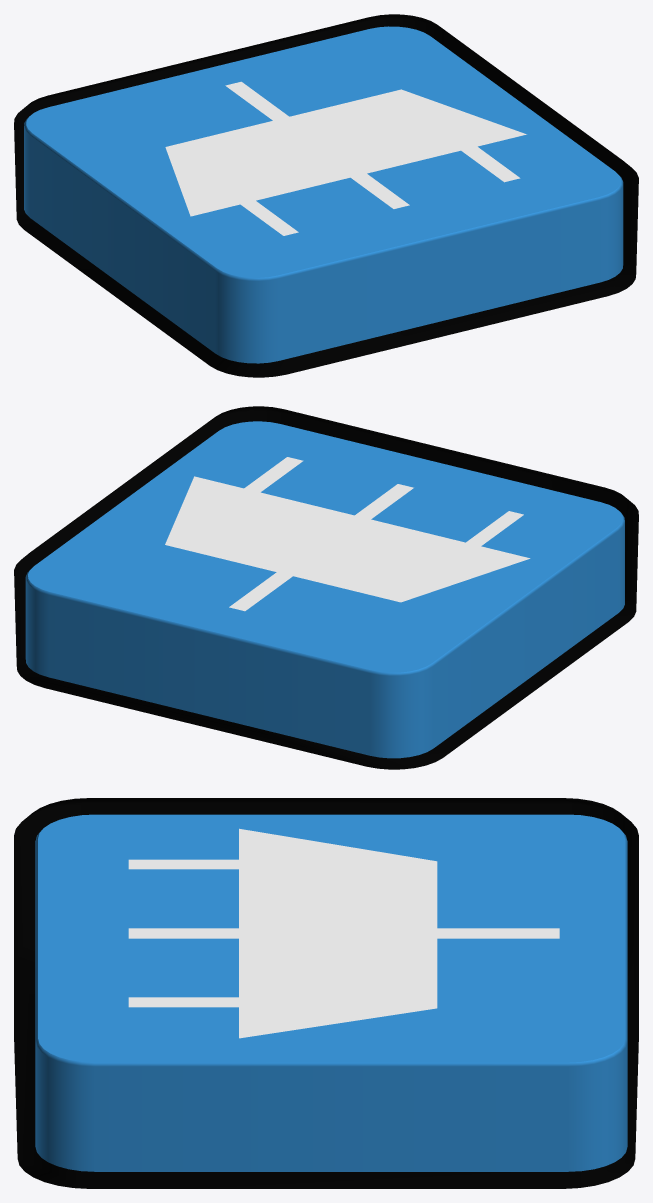
File: DWDM下.obj
3 views of the same model, one above another, from view 1: azimuth 30°, elevation 25°; view 2: azimuth 150°, elevation 25°; view 3: azimuth 270°, elevation 25° (orthographic). The views are drawn at different scales.
Bounding box in the file's own units: 1.06 × 0.2484 × 1.06.
